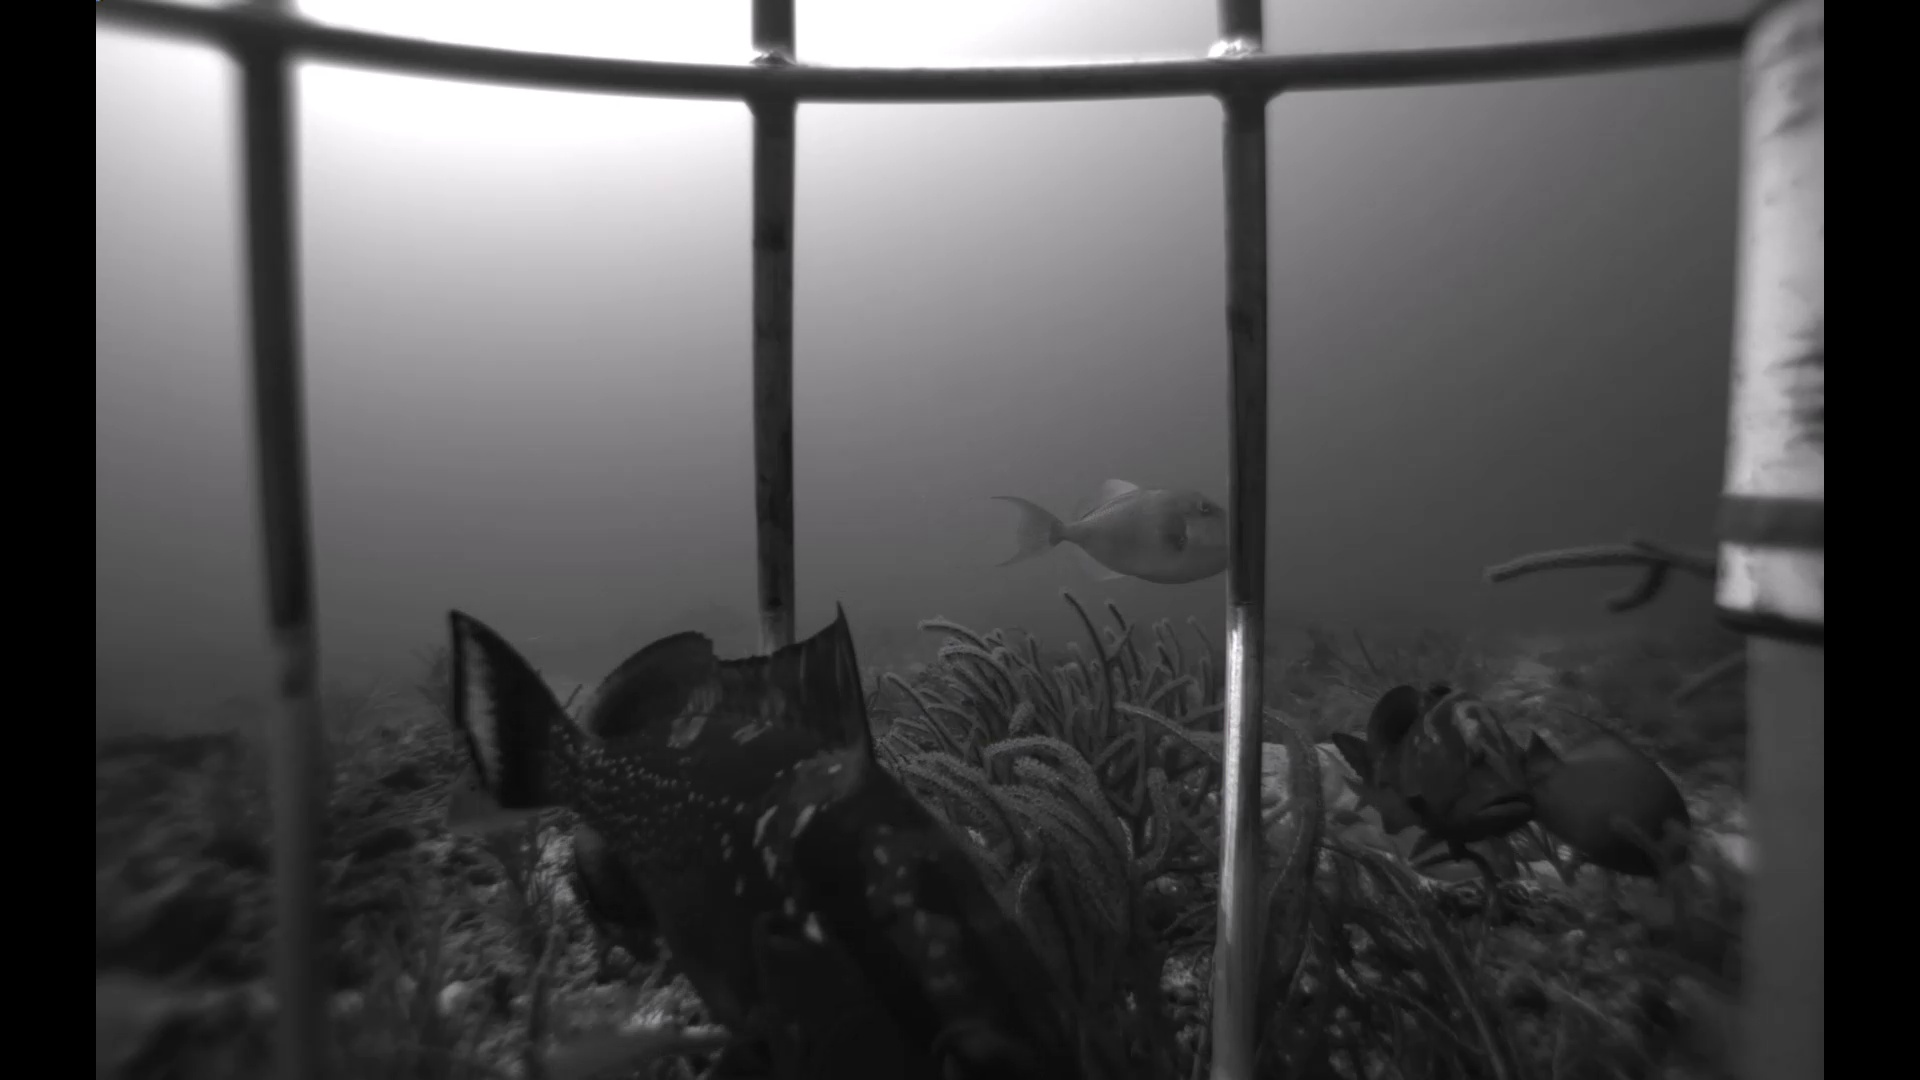BALISTESCAPRISCUS-189030502: (976, 469, 1233, 595)
CALAMUSNODOSUS-170210608: (415, 731, 587, 858)
EPINEPHELUSMORIO-170021211: (426, 560, 1080, 1071), (1313, 666, 1545, 858)
LACHNOLAIMUSMAXIMUS-170281801: (1304, 733, 1526, 895)
POMACANTHUSARCUATUS-170290201: (1506, 678, 1710, 891)
